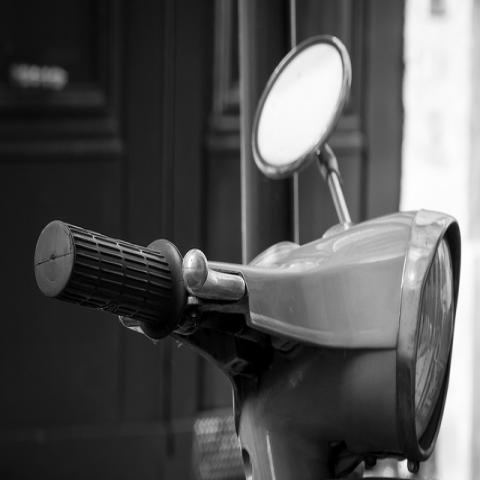motorcycle: (33, 35, 464, 479)
